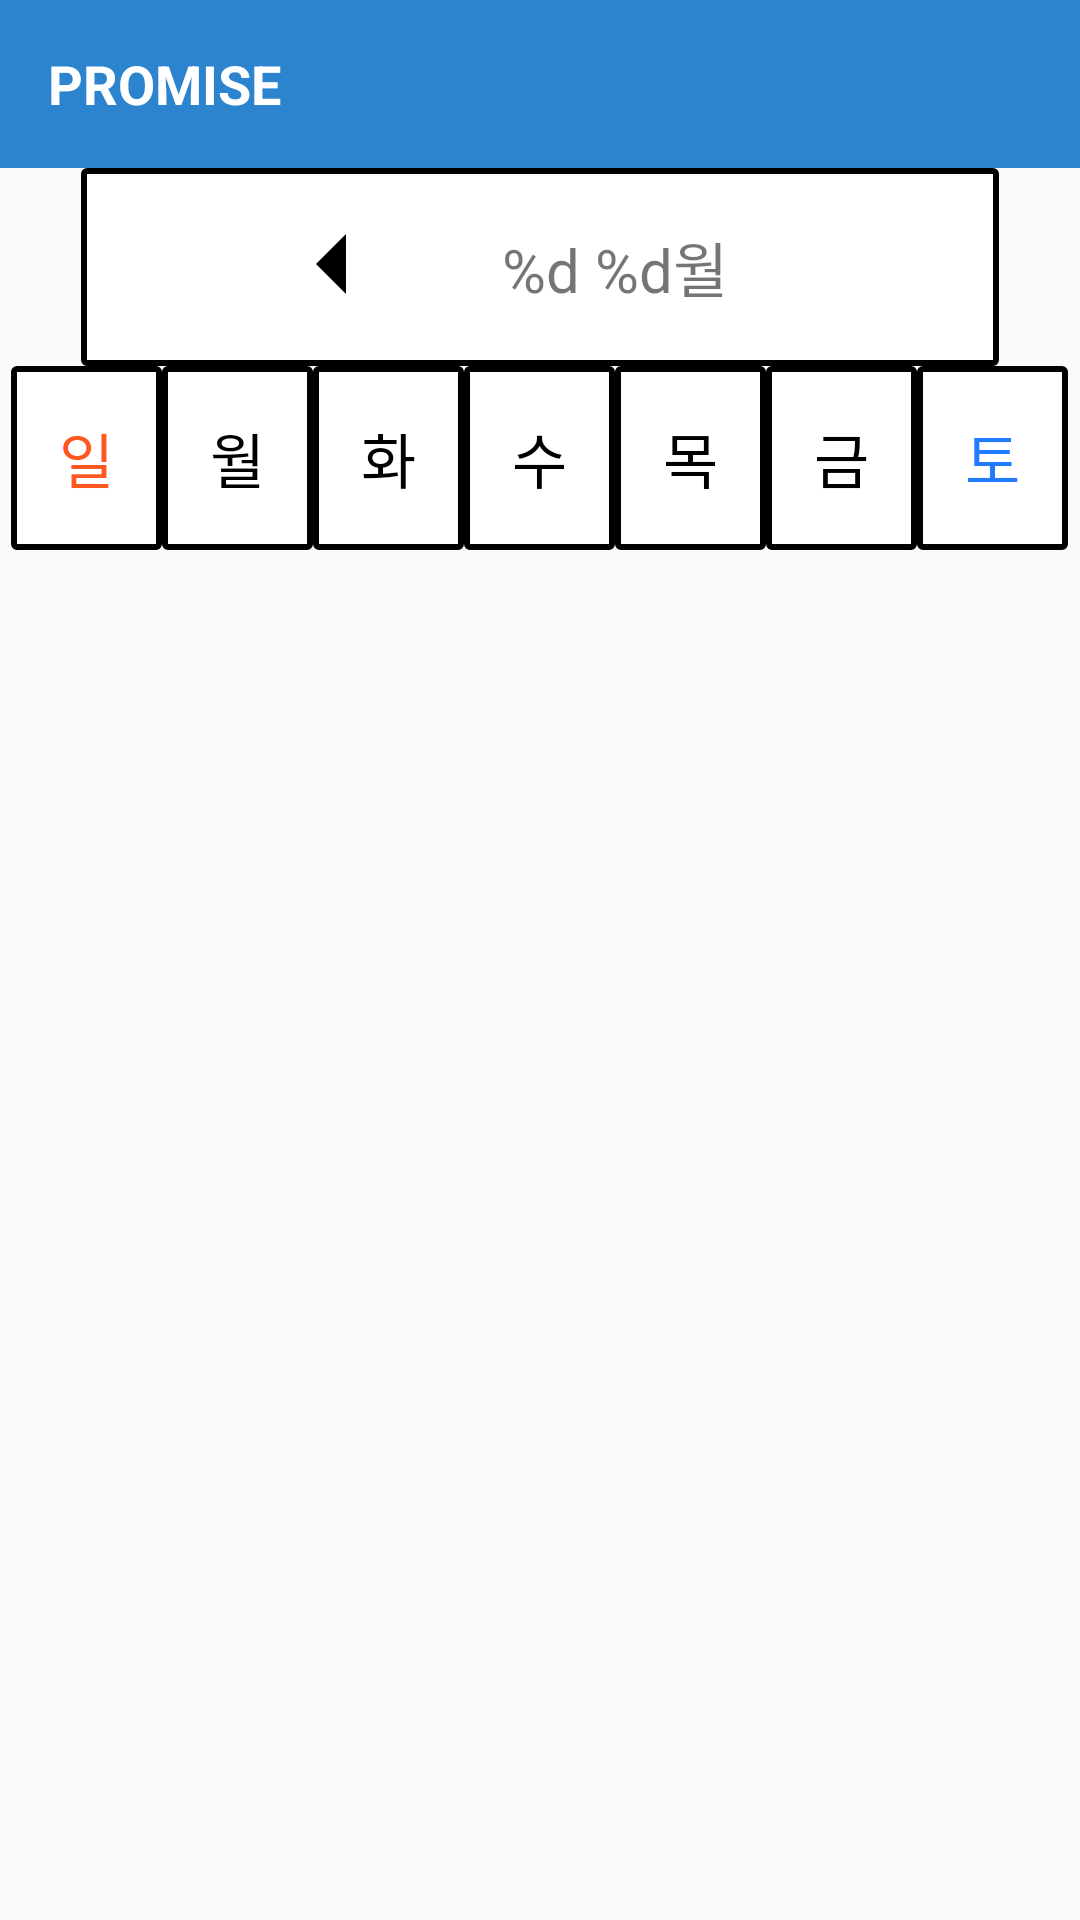

Icons on this 1080×1920 Android screen, each with its box as (x1, y1, x2, y2):
calendar left: (316, 234, 346, 294)
